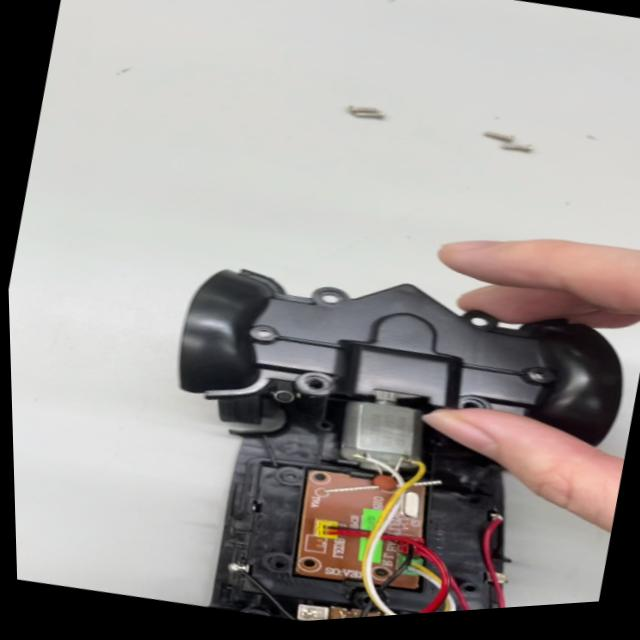motor_cover: (145, 225, 628, 479)
